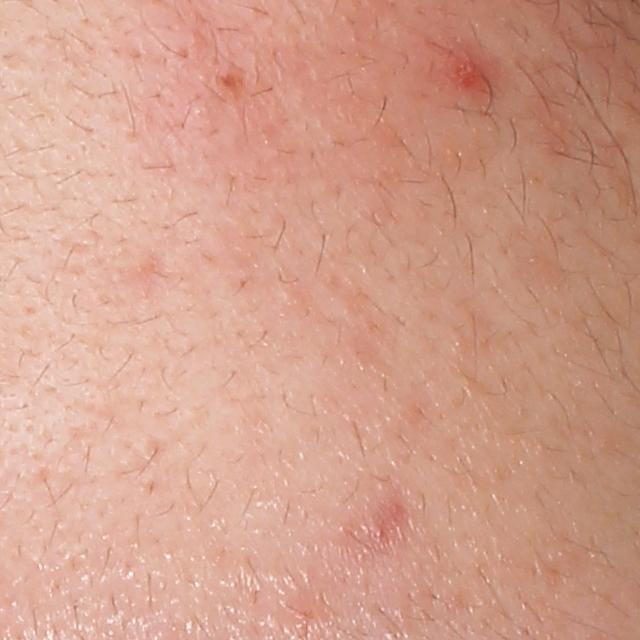papule: (443, 47, 486, 98)
